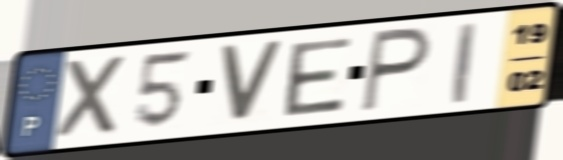5: (130, 51, 195, 133)
E: (282, 34, 356, 119)
I: (450, 18, 479, 107)
P: (357, 24, 435, 116)
V: (216, 40, 287, 126)
X: (55, 52, 133, 144)
